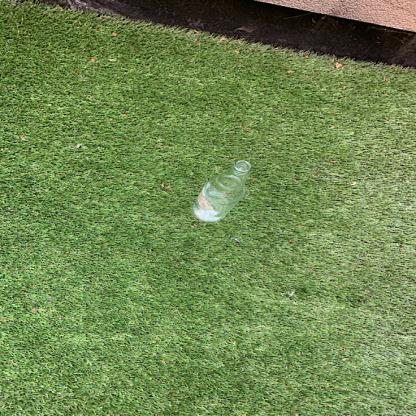trash: (189, 159, 255, 223)
